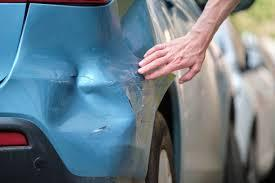dent: (37, 56, 149, 144)
